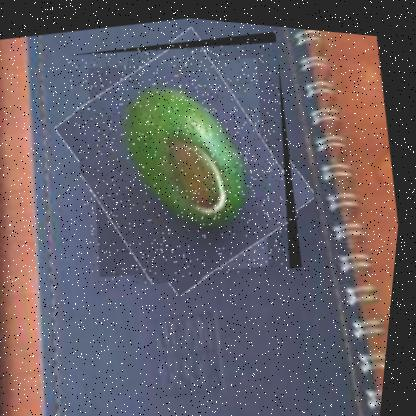orange_rotten: (50, 10, 325, 304)
